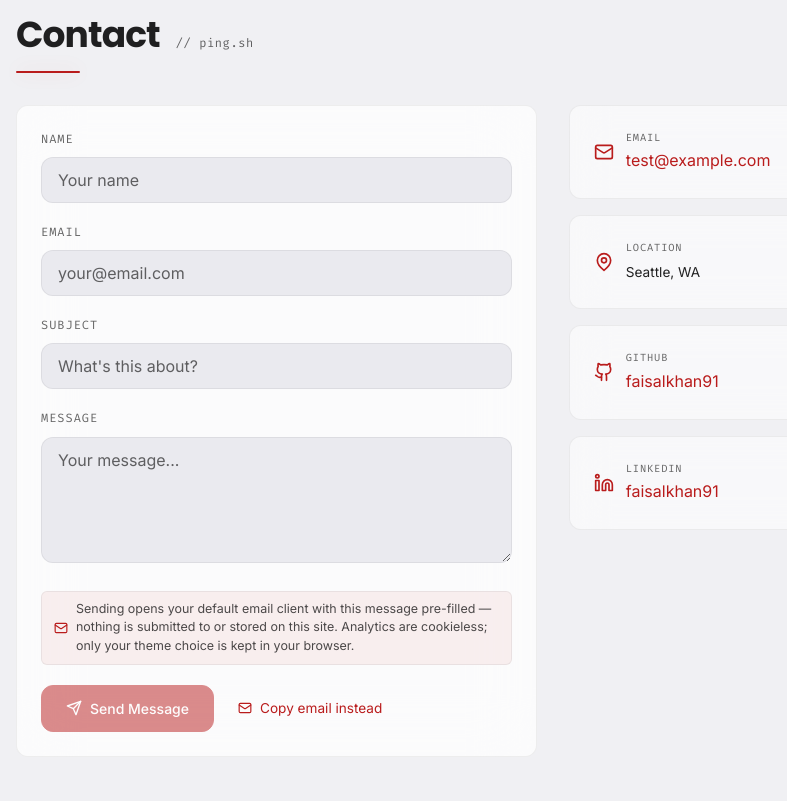
Test: ContactComponent › should show email format error for invalid email
The image size is (787, 801).
Step 1. Type "notanemail" into the field with id "email" → (276, 273), box [41, 250, 512, 296]
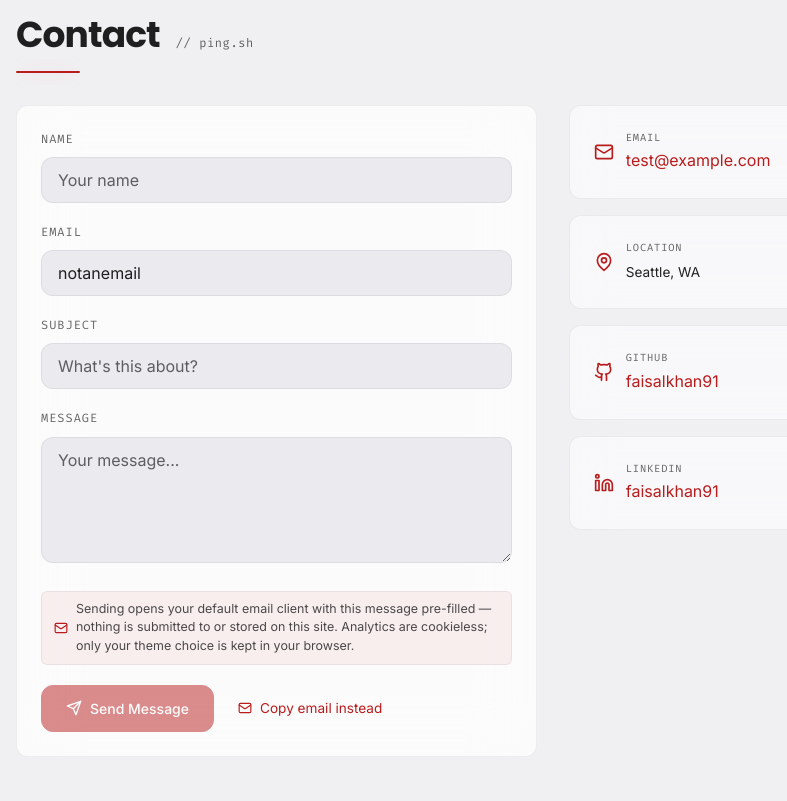
Step 2. Leave the field with id "email", box [41, 250, 512, 296]
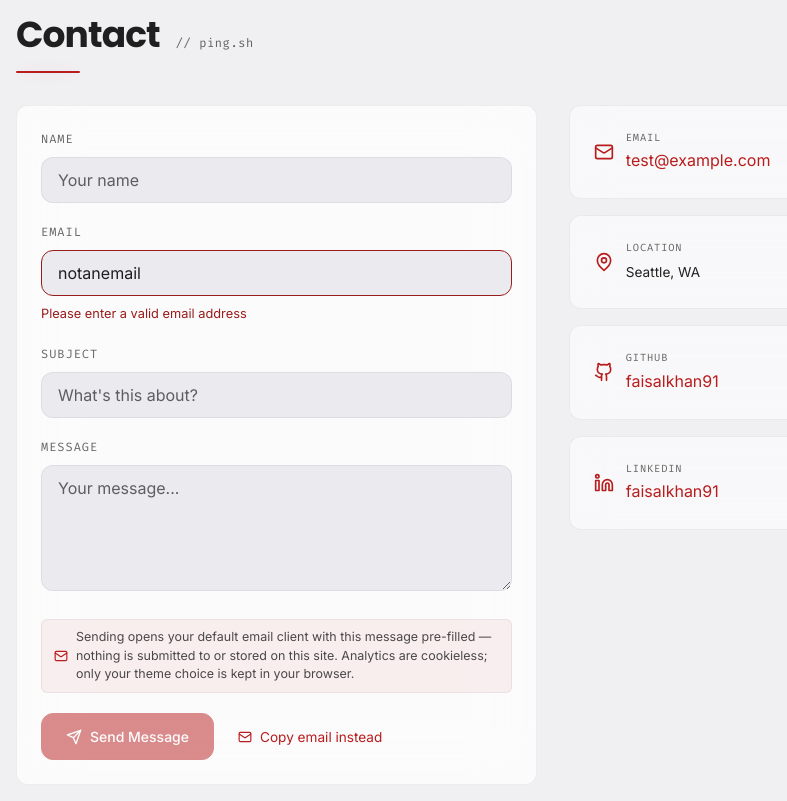
Check: the message with id "email-error" shows "valid email", box [41, 306, 247, 321]
